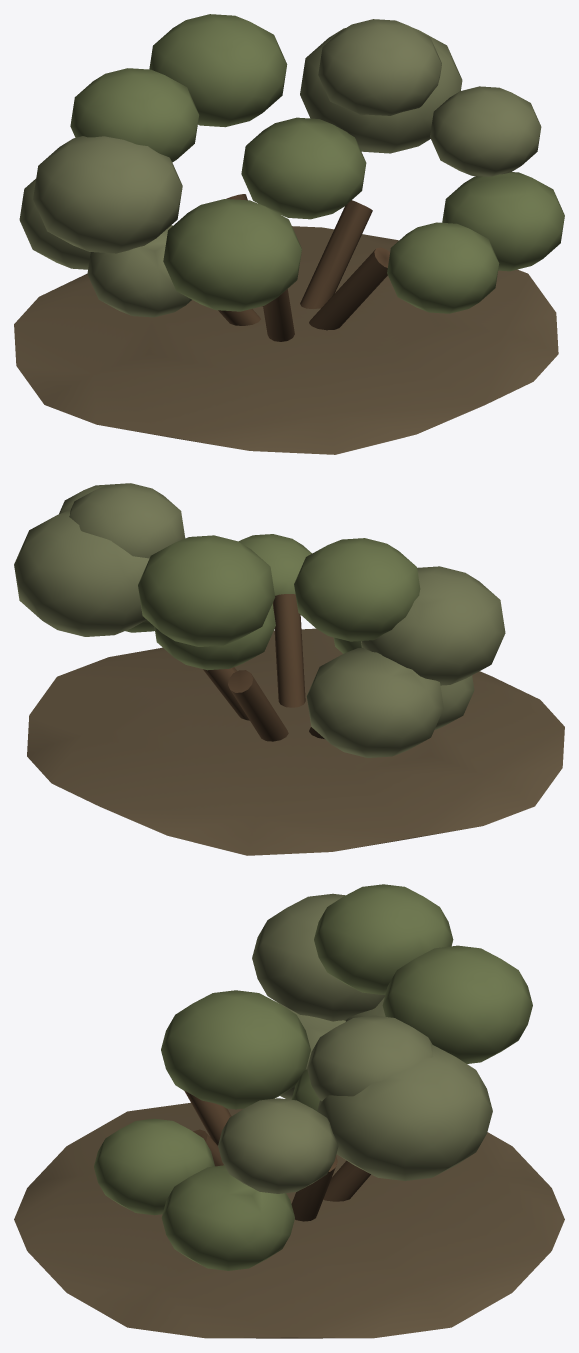
The model's file is saltbush_a.glb.
3 renders of one model, top to bottom at view 1: azimuth 30°, elevation 25°; view 2: azimuth 150°, elevation 25°; view 3: azimuth 270°, elevation 25°, orthographic. The views are drawn at different scales.
Parts seen in each view (by area): view 1: Surface; view 2: Surface; view 3: Surface.
Boxes of the visible parts, x1,y1,x2,y2 form: Surface: [14, 14, 564, 454]; Surface: [14, 483, 564, 855]; Surface: [14, 884, 564, 1338].
Size of the model in its own units: 1.79 by 1.03 by 1.67.
